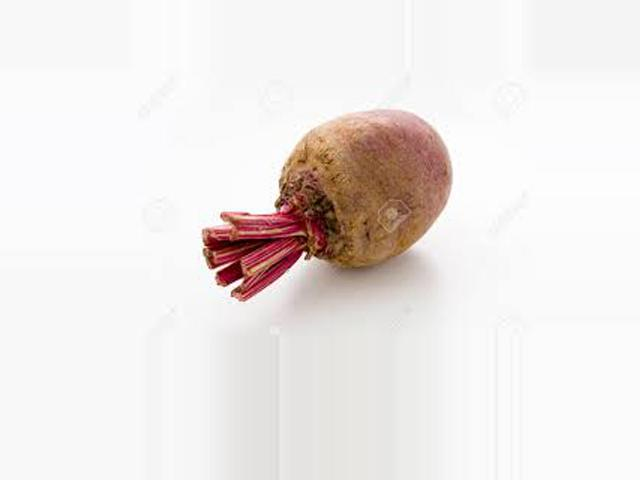beet: (202, 108, 453, 303)
